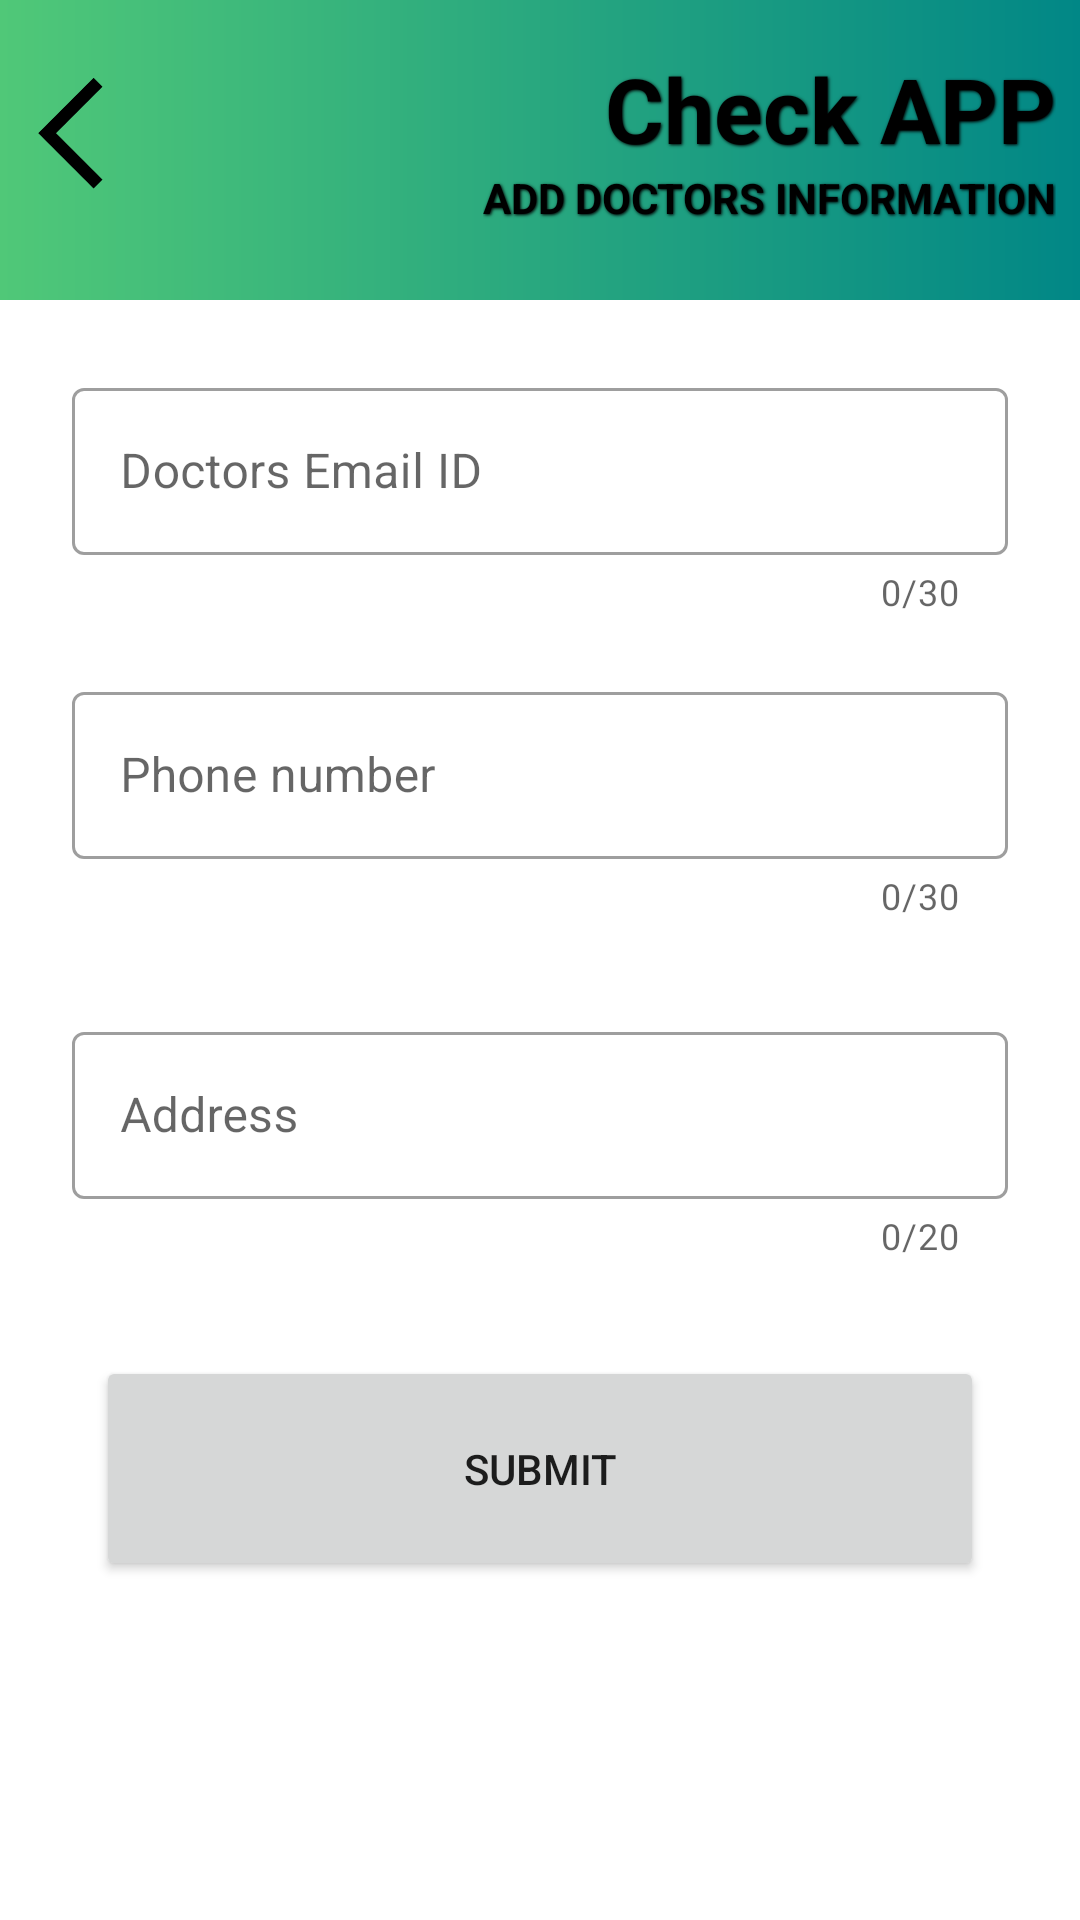

Locate icon controls on the screen. Image size 1080×1920, boxes as {"x1": x1, "y1": y1, "x2": x2, "y2": y2}.
backbutton: {"x1": 38, "y1": 78, "x2": 103, "y2": 189}
